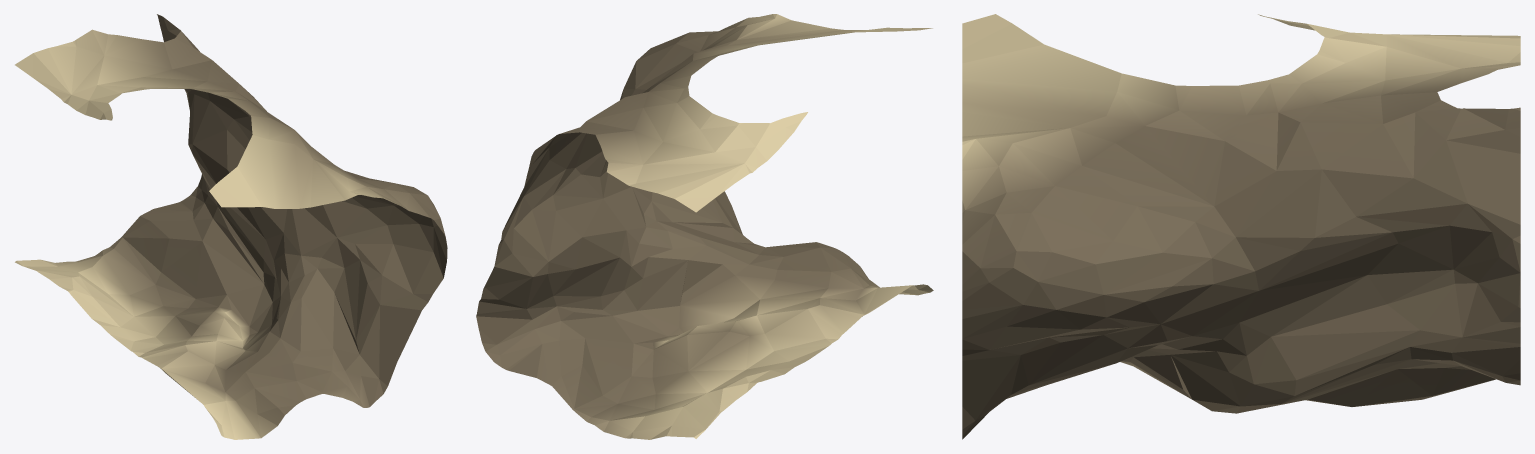
File: bisect-4-5-2.gltf
3 renders of one model, left to right at view 1: azimuth 30°, elevation 25°; view 2: azimuth 150°, elevation 25°; view 3: azimuth 270°, elevation 25°, orthographic. The views are drawn at different scales.
Visible parts, largest first — view 1: bisect-4-5-2; view 2: bisect-4-5-2; view 3: bisect-4-5-2.
Boxes of the visible parts, x1,y1,x2,y2 form: bisect-4-5-2: (15, 14, 447, 439); bisect-4-5-2: (476, 14, 933, 439); bisect-4-5-2: (962, 14, 1520, 439).
Size of the model in its own units: 13.11 by 13.21 by 20.
